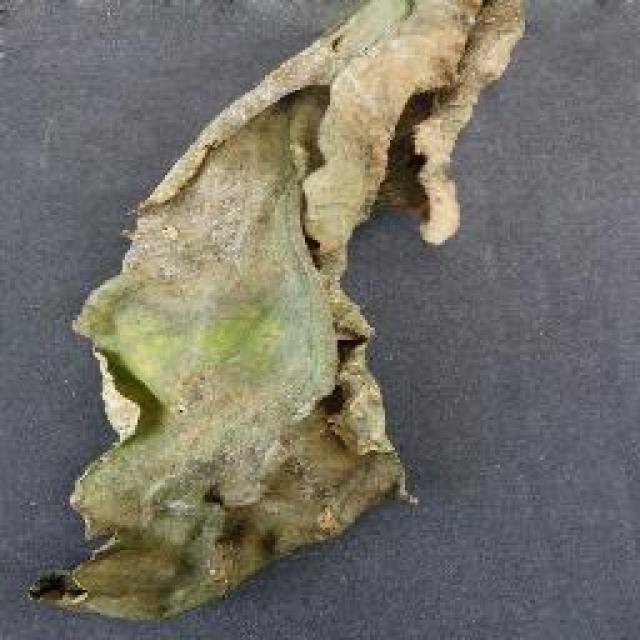Tomato late blight leaf: (34, 0, 526, 618)
